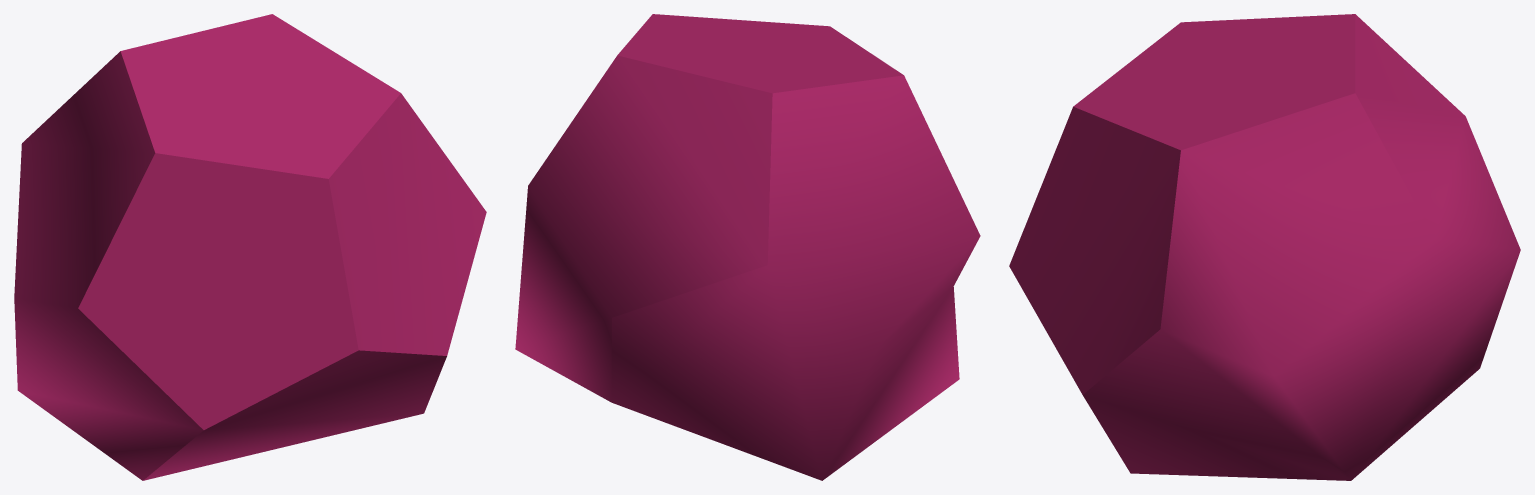
The model's file is rock_two.fbx.
3 renders of one model, left to right at view 1: azimuth 30°, elevation 25°; view 2: azimuth 150°, elevation 25°; view 3: azimuth 270°, elevation 25°, orthographic. The views are drawn at different scales.
Visible parts, largest first — view 1: rock_two; view 2: rock_two; view 3: rock_two.
Part boxes in pixels (x1,y1,x2,y2): rock_two: (14, 14, 486, 480); rock_two: (515, 14, 980, 480); rock_two: (1009, 14, 1520, 480).
Size of the model in its own units: 187 by 153 by 195.
